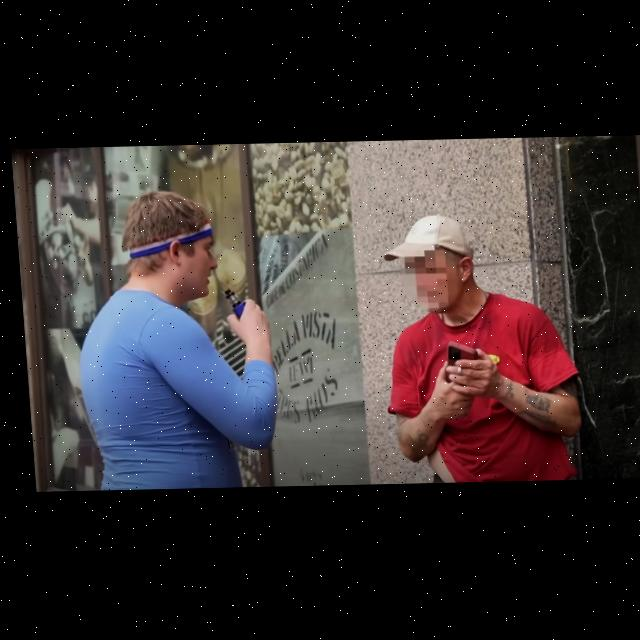vape: (219, 288, 243, 320)
